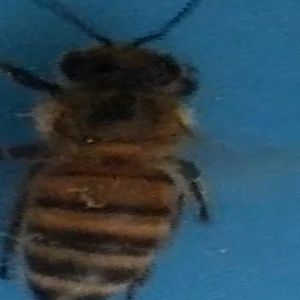bee: (7, 3, 232, 299)
